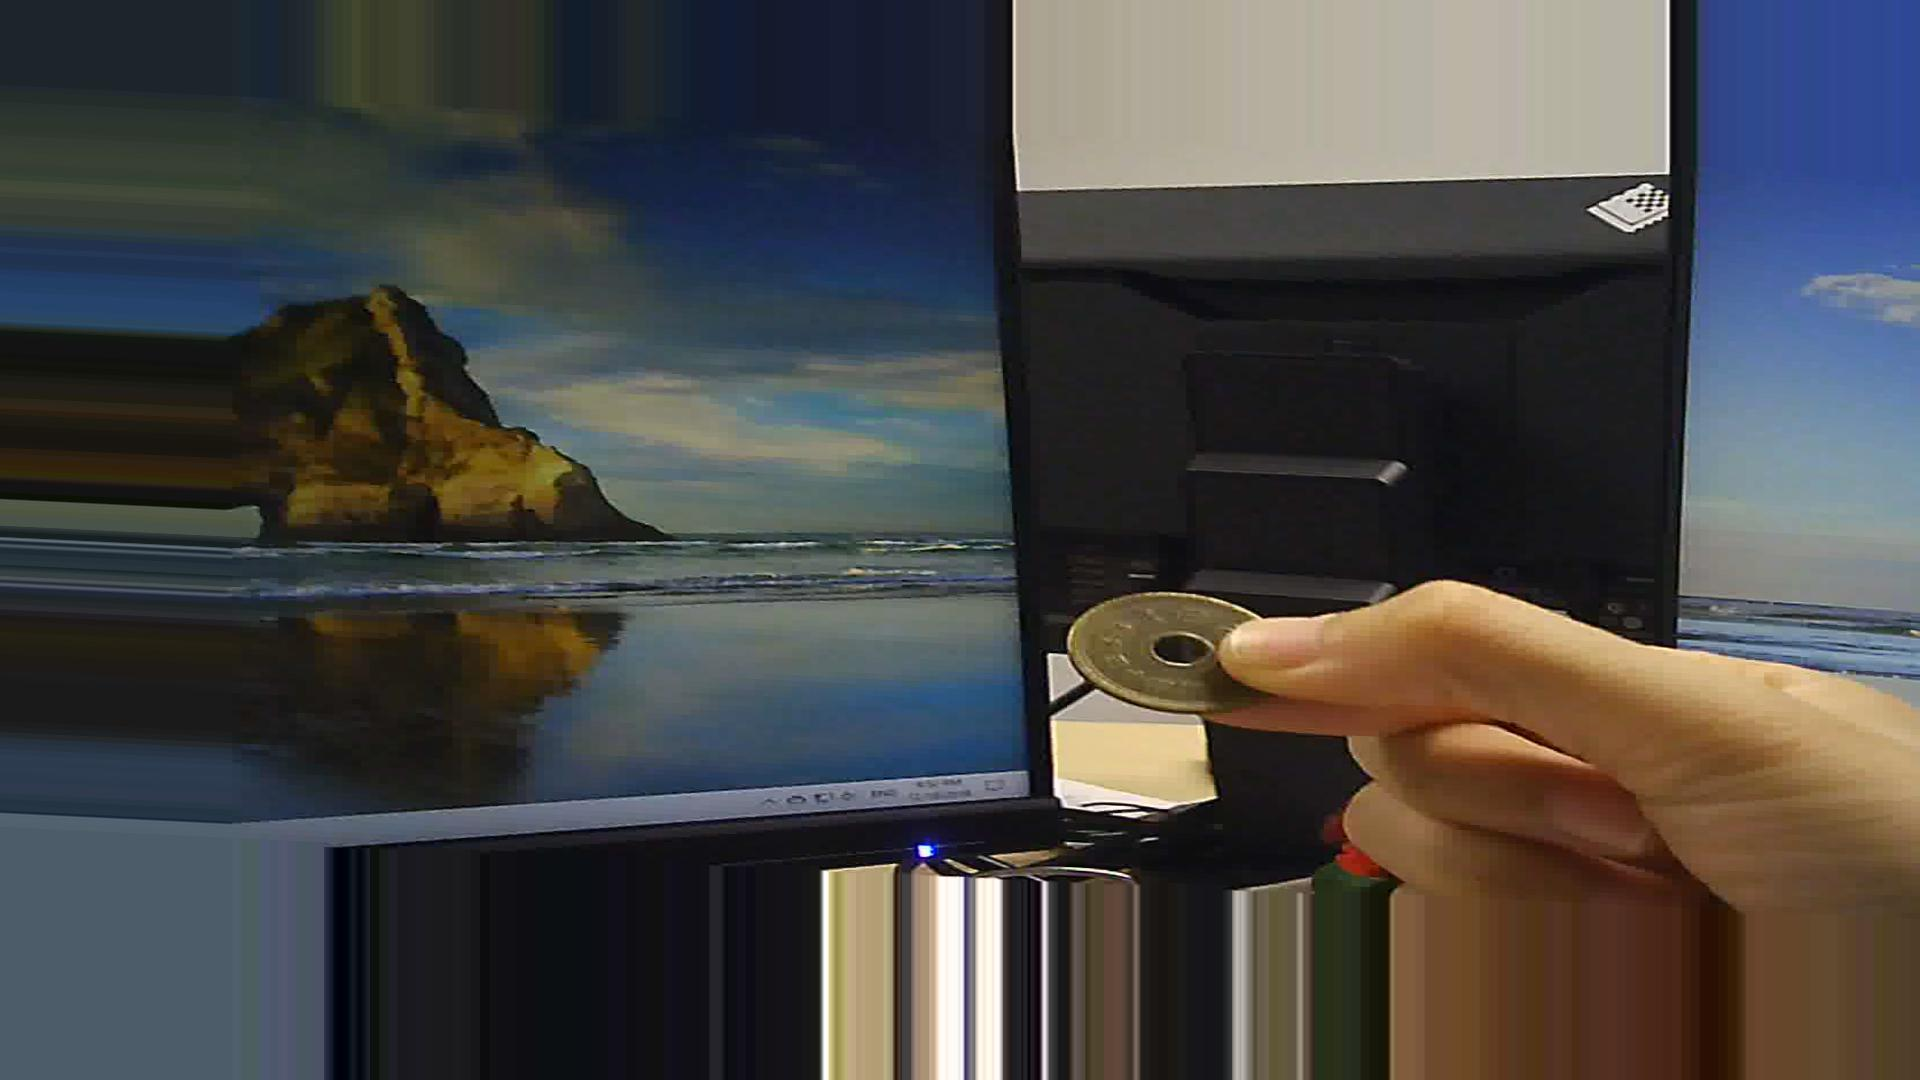5 Yen: (1068, 588, 1269, 723)
